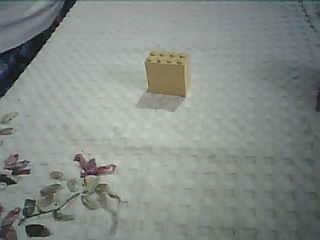lego: (143, 49, 191, 96)
